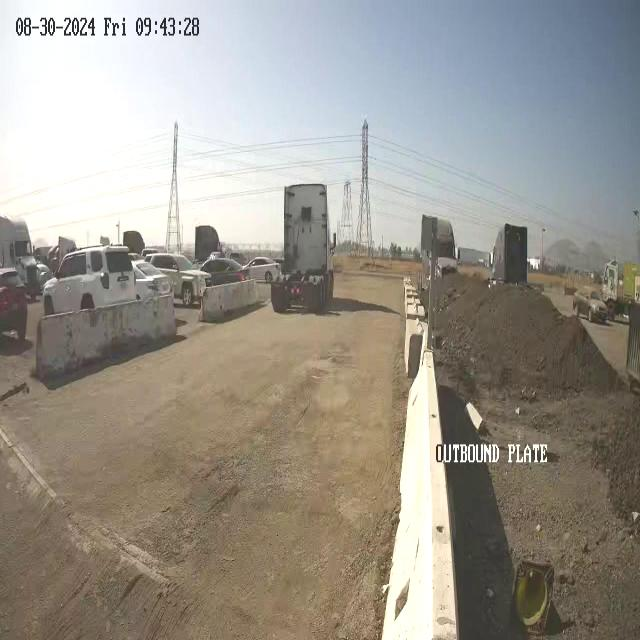BOBTAIL: (270, 182, 336, 314)
